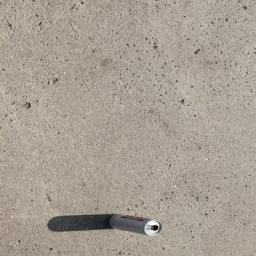FOD: (46, 211, 166, 242)
